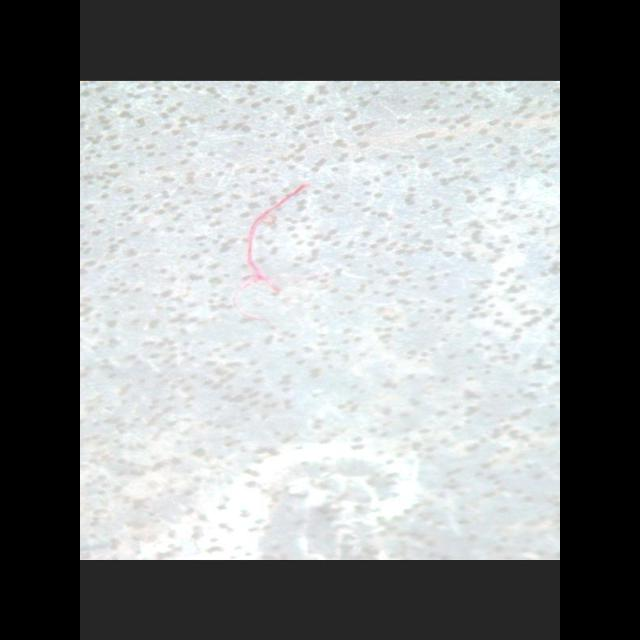Fibre: (230, 182, 320, 322)
